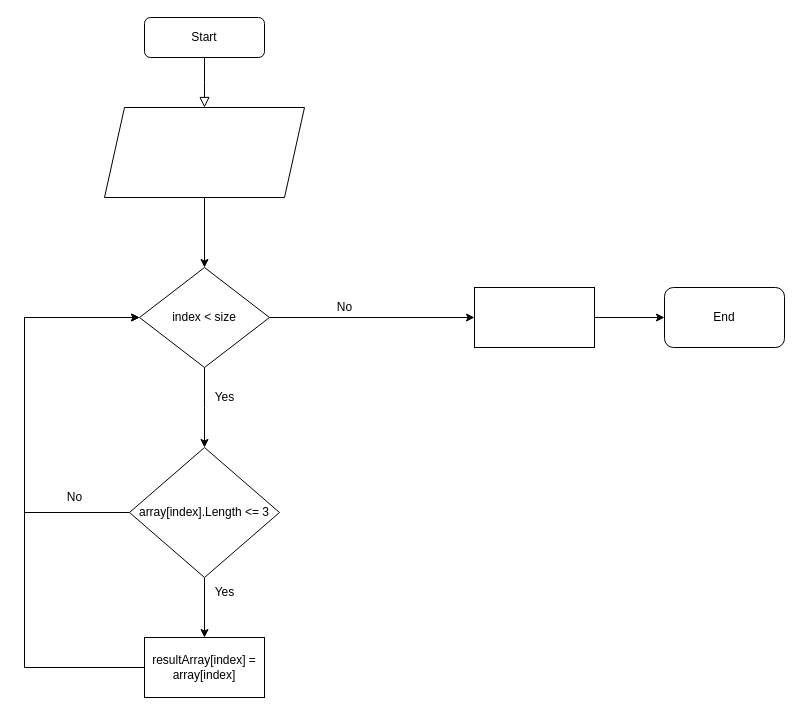
Image size: 802x715. Some labels were removed from this diagram. Each missing label, with the centre of its shape:
array["hello", "2", "world", ":-)"] resultArray[array.Length]: (x=204, y=152)
Print resultArray: (x=534, y=317)
